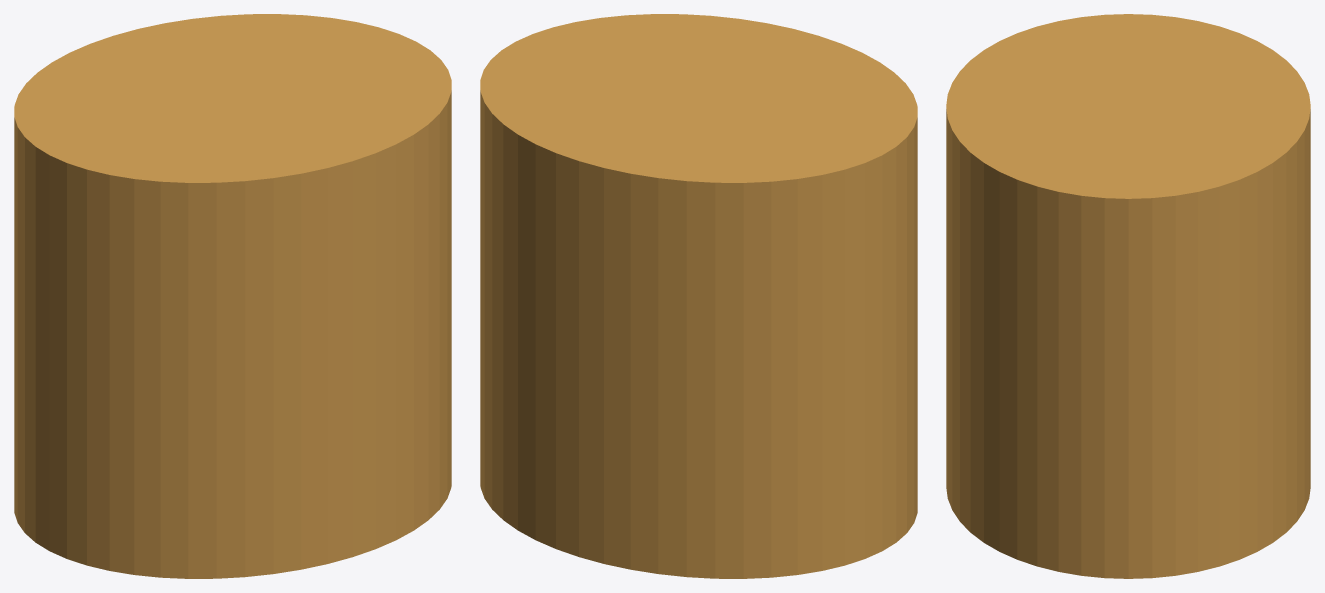
Rendered from Smashing Amur.glb.
3 renders of one model, left to right at view 1: azimuth 30°, elevation 25°; view 2: azimuth 150°, elevation 25°; view 3: azimuth 270°, elevation 25°, orthographic. The views are drawn at different scales.
Parts seen in each view (by area): view 1: Mesh_Mesh_head_geo.001_lambert2SG.001; view 2: Mesh_Mesh_head_geo.001_lambert2SG.001; view 3: Mesh_Mesh_head_geo.001_lambert2SG.001.
Part boxes in pixels (<box>): Mesh_Mesh_head_geo.001_lambert2SG.001: <box>14,14,451,578</box>; Mesh_Mesh_head_geo.001_lambert2SG.001: <box>480,14,917,578</box>; Mesh_Mesh_head_geo.001_lambert2SG.001: <box>946,14,1310,578</box>.
Size of the model in its own units: 0.024 by 0.023 by 0.02.
